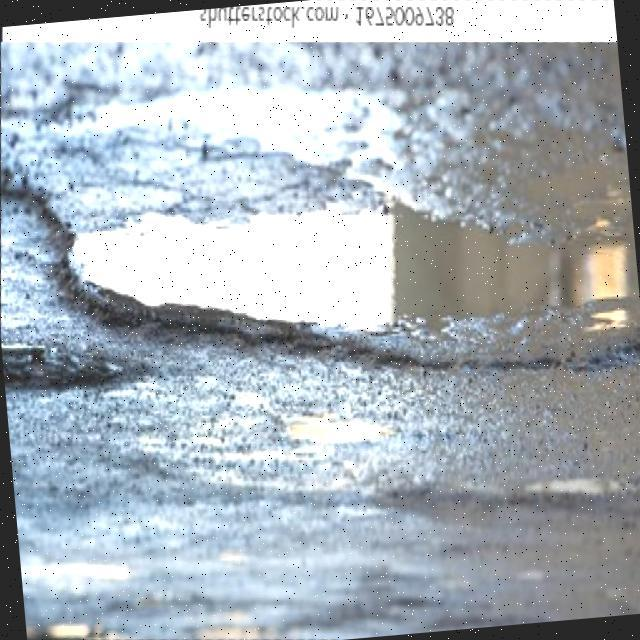Pothole: (52, 201, 640, 372), (2, 343, 113, 395), (513, 475, 618, 511), (288, 418, 393, 449)
